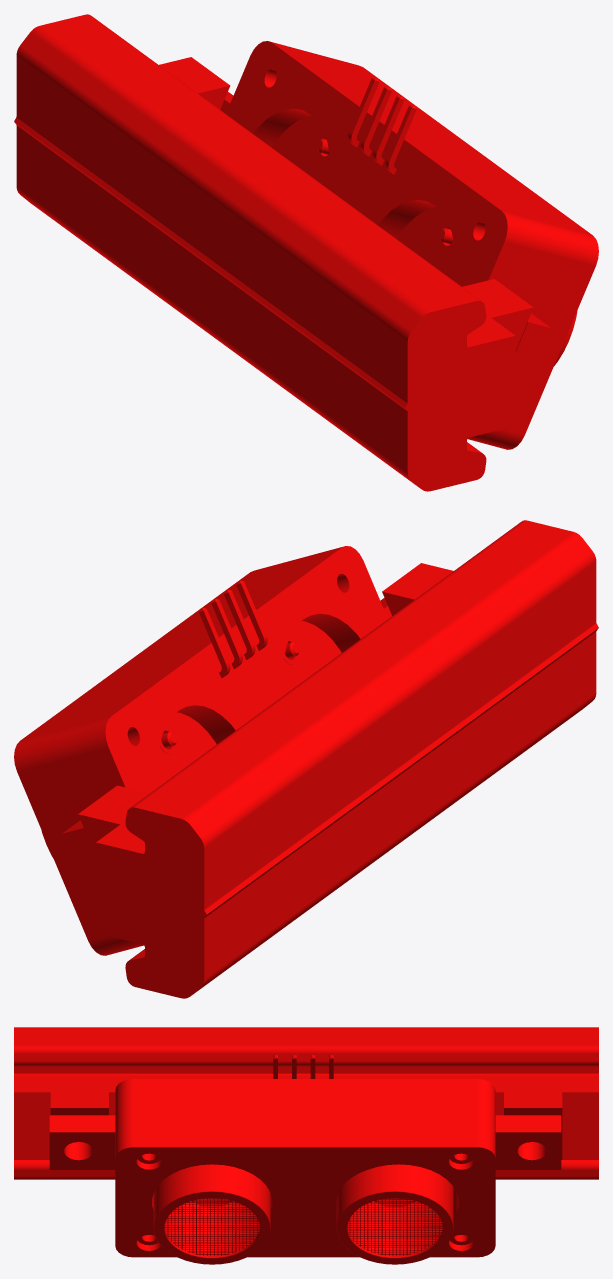
File: sonar8.dae
3 views of the same model, one above another, from view 1: azimuth 30°, elevation 25°; view 2: azimuth 150°, elevation 25°; view 3: azimuth 270°, elevation 25° (orthographic). The views are drawn at different scales.
Parts seen in each view (by area): view 1: Body1 (×3), Platine.step; view 2: Body1 (×3), Platine.step; view 3: Body1 (×4), Platine.step, HC_SR04_gitter_001.step.
Part boxes in pixels (x1,y1,x2,y2): Body1 (×3): (14,14,598,491); Platine.step: (272,115,577,365); Body1 (×3): (14,520,598,998); Platine.step: (41,621,341,858); Body1 (×4): (14,1027,598,1257); Platine.step: (153,1164,453,1264); HC_SR04_gitter_001.step: (347,1198,442,1256).
Bounding box in the file's own units: 0.0339 × 0.08 × 0.0307.
